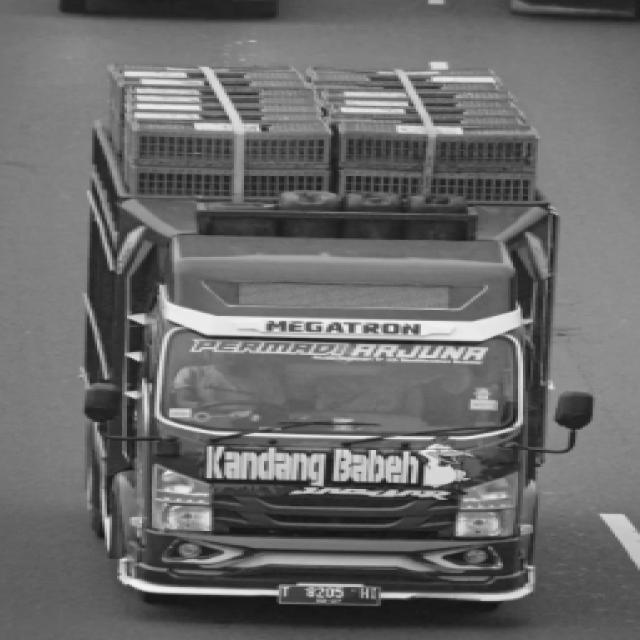Truck: (37, 49, 620, 623)
